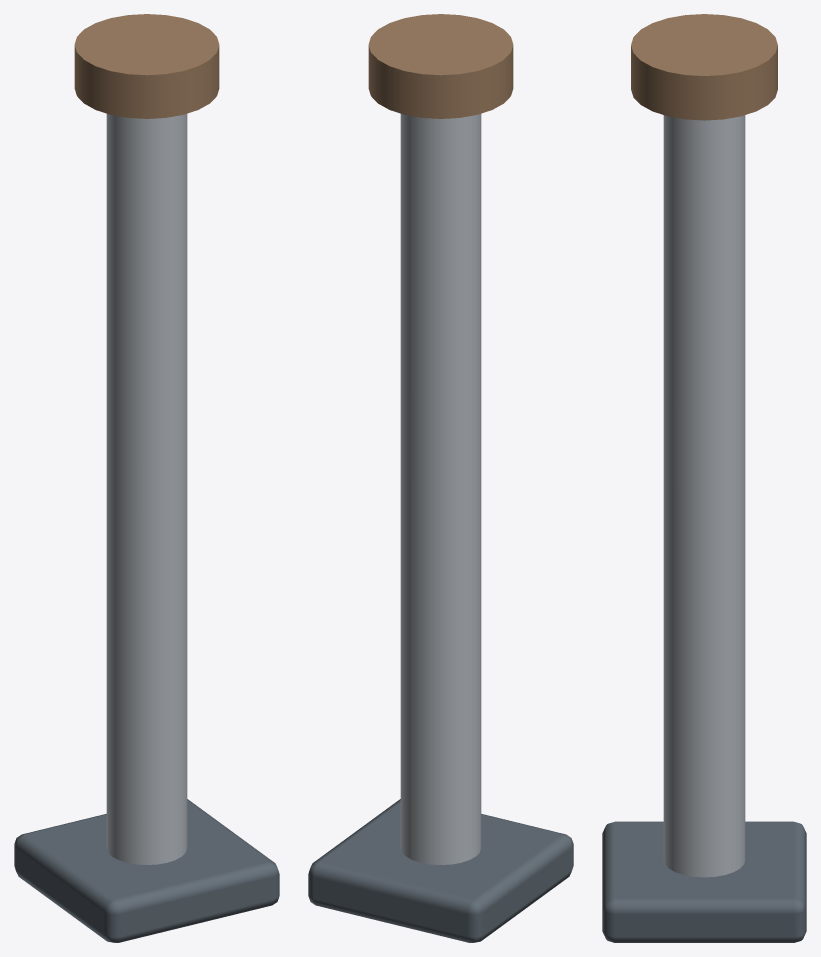
File: arena-shooter-map-kit-rail-post-209a43de__23108.glb
3 renders of one model, left to right at view 1: azimuth 30°, elevation 25°; view 2: azimuth 150°, elevation 25°; view 3: azimuth 270°, elevation 25°, orthographic.
Parts seen in each view (by area): view 1: rail-post; view 2: rail-post; view 3: rail-post.
Part boxes in pixels (x1,y1,x2,y2): rail-post: (14,14,279,942); rail-post: (308,14,573,942); rail-post: (602,14,806,942).
Size of the model in its own units: 0.25 by 1.16 by 0.25.
